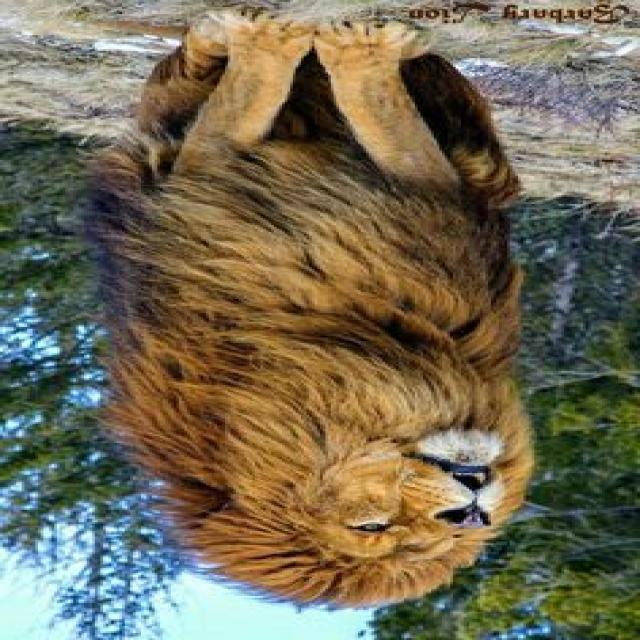lions: (90, 0, 584, 639)
